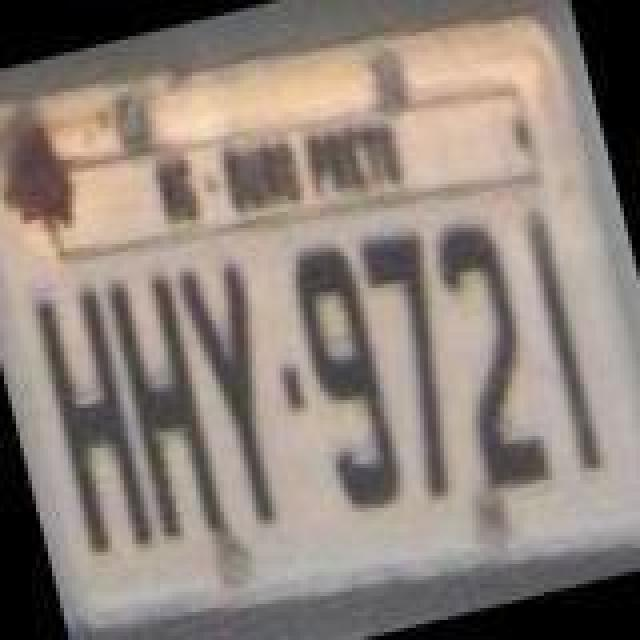1: (516, 206, 612, 474)
2: (428, 208, 564, 496)
7: (354, 226, 486, 510)
9: (278, 234, 410, 518)
H: (28, 278, 164, 562), (102, 266, 234, 550)
Y: (174, 250, 306, 534)
